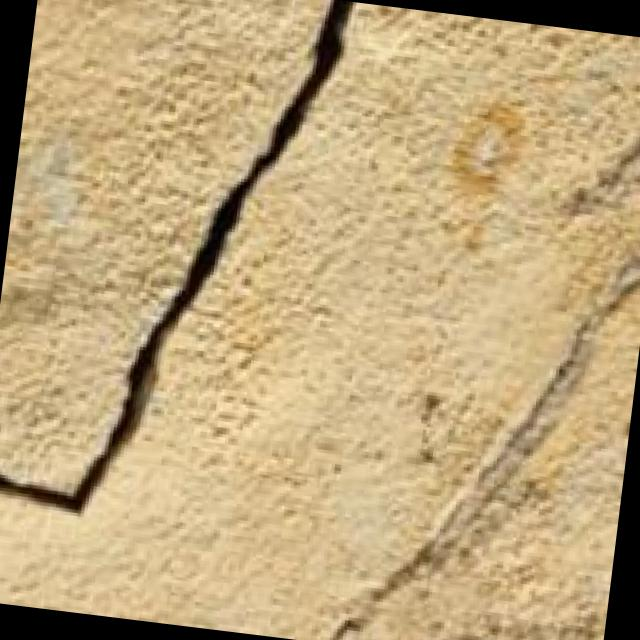crack: (0, 0, 350, 554)
